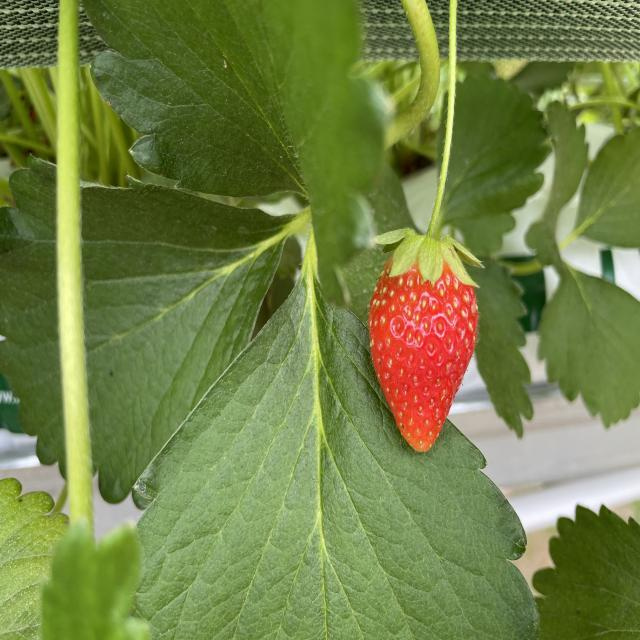stem: (376, 0, 481, 286)
strawberryR: (369, 265, 476, 452)
